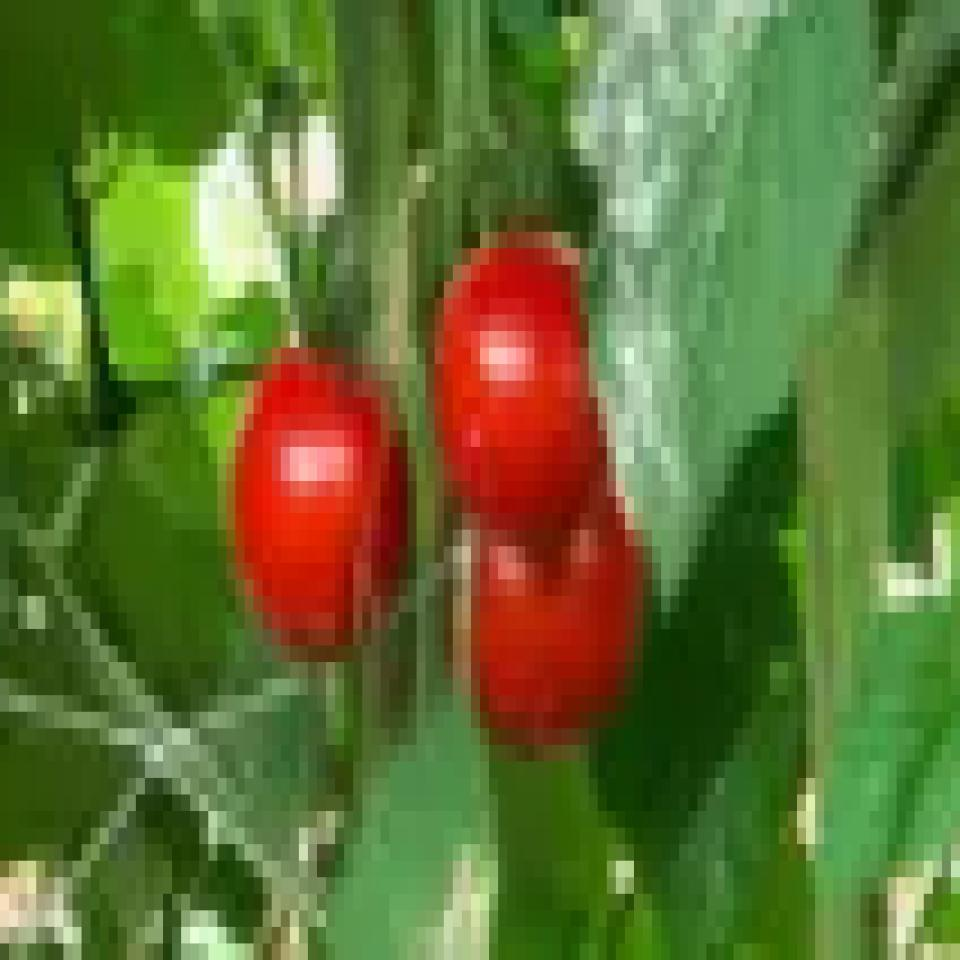Healthy: (444, 235, 616, 516), (243, 352, 395, 630)
